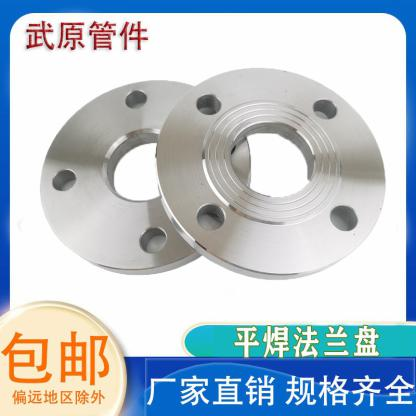FOD: (153, 60, 387, 284), (34, 74, 258, 278)
